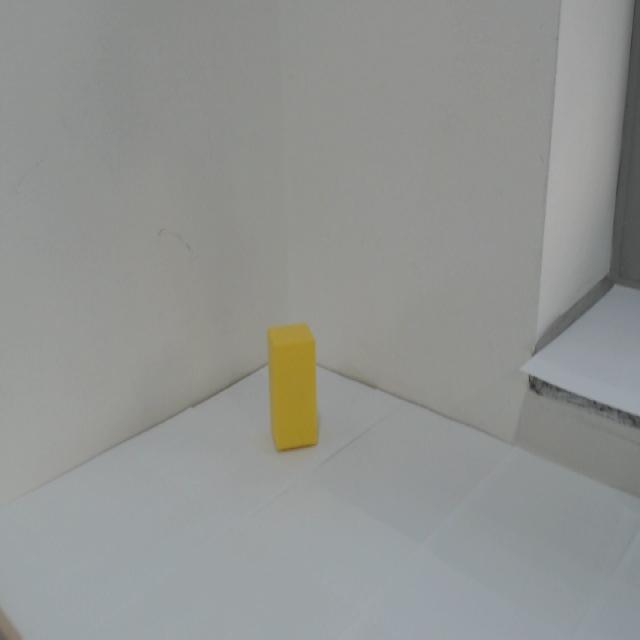cube: (265, 308, 326, 465)
